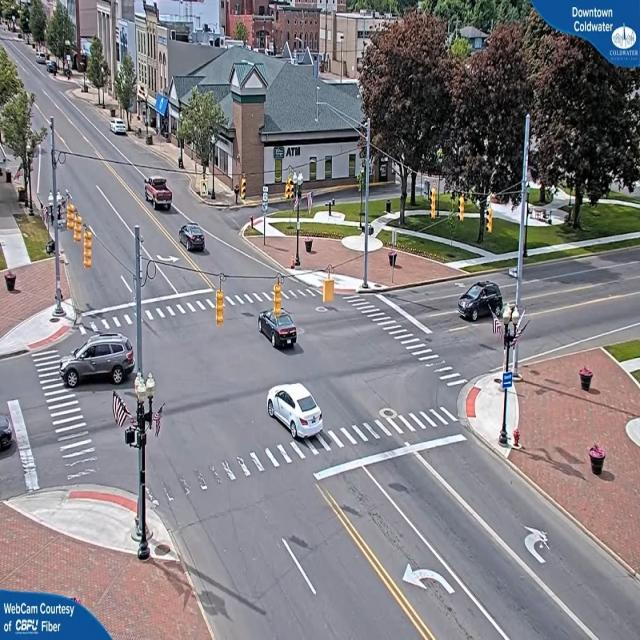car: (64, 337, 133, 390), (266, 382, 323, 439), (460, 282, 506, 324), (258, 309, 300, 352), (145, 177, 175, 211), (179, 223, 206, 254), (111, 120, 129, 136)
